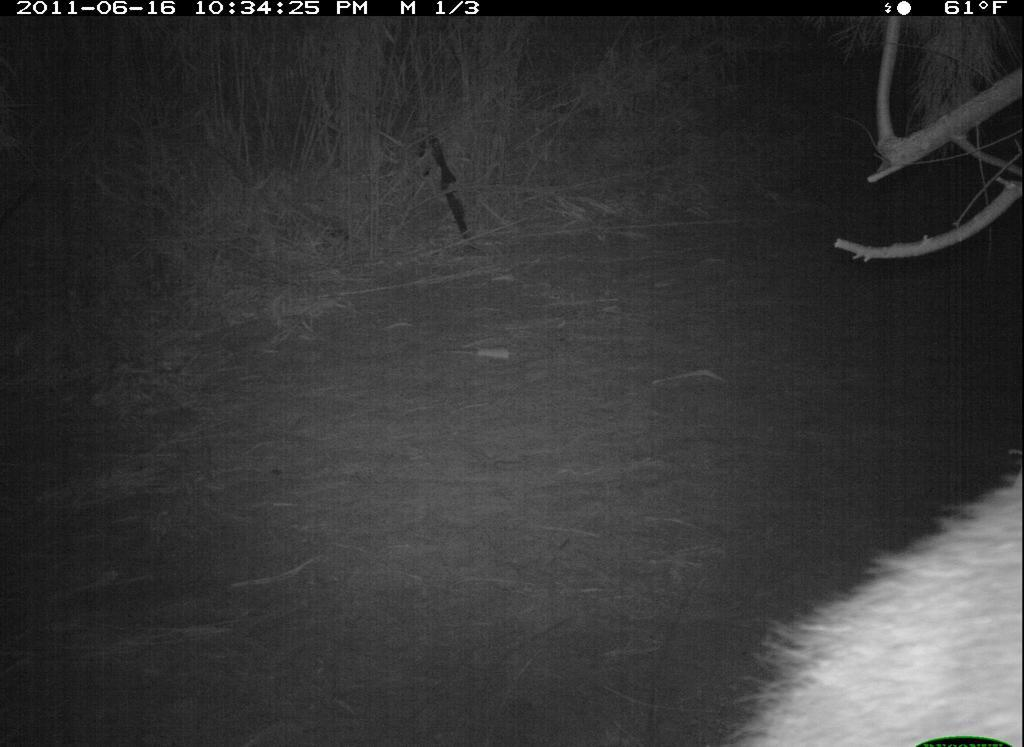raccoon: (720, 454, 1023, 747)
